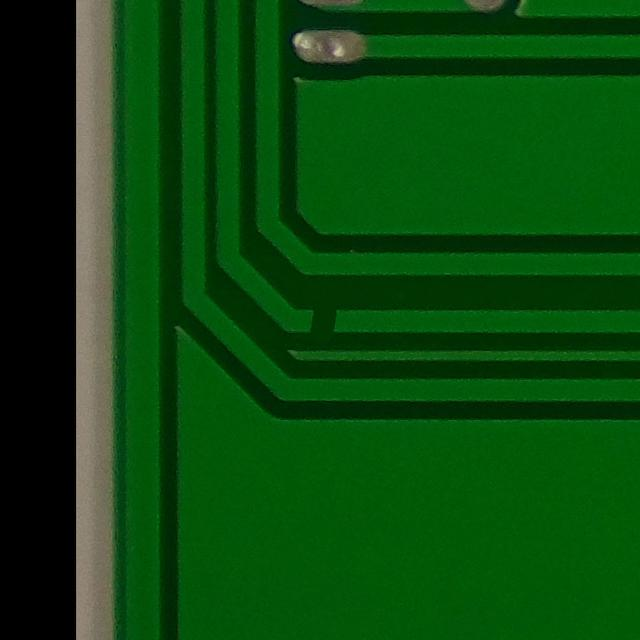open_circuit: (293, 294, 346, 347)
